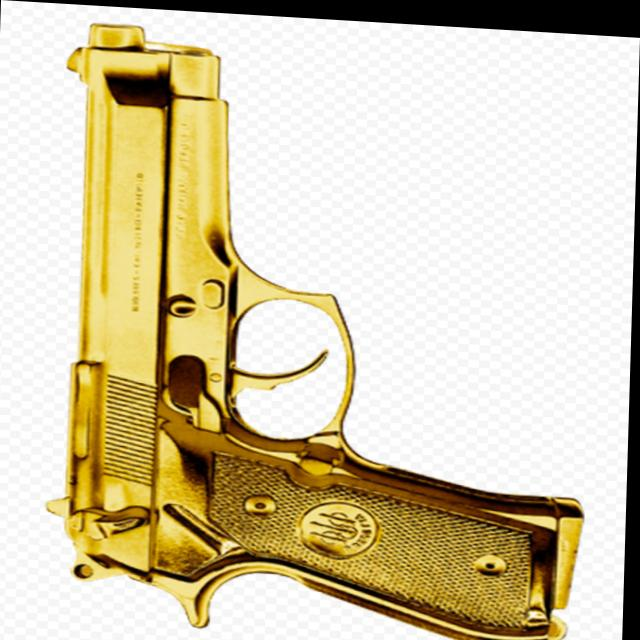handgun: (45, 22, 597, 640)
